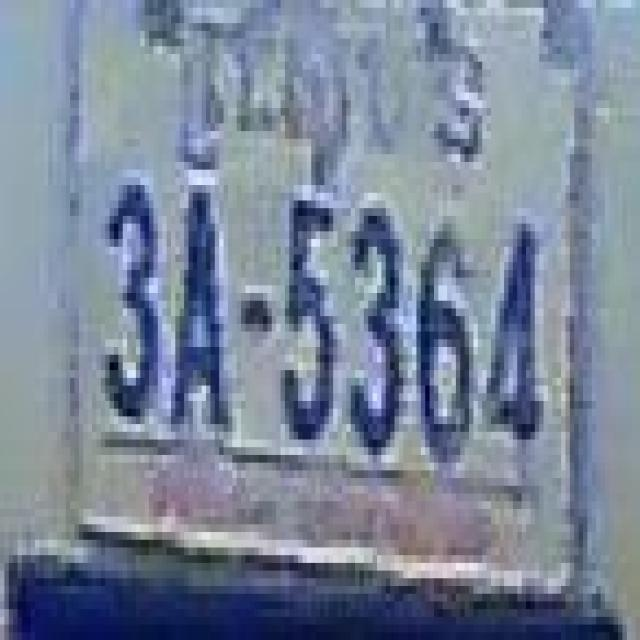Preah_Sihanouk: (176, 8, 486, 185)
